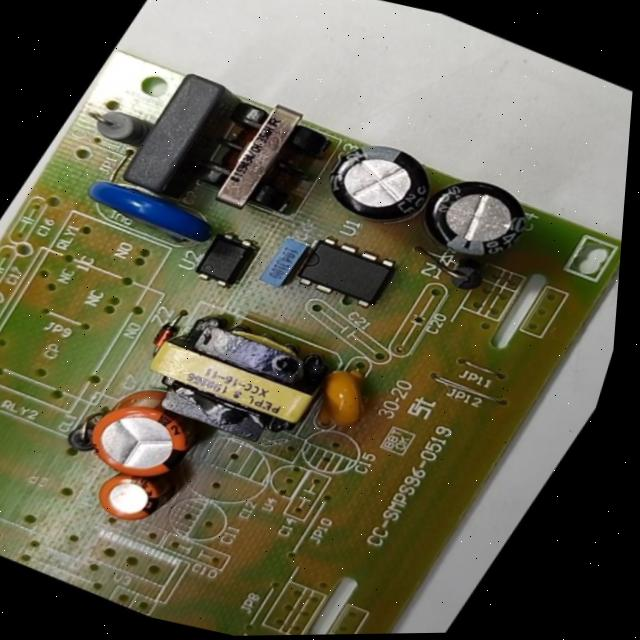Cap1: (56, 364, 229, 501)
Cap2: (75, 449, 194, 542)
Cap3: (299, 123, 458, 246)
Cap4: (390, 155, 556, 283)
MOSFET: (276, 222, 416, 323)
Mov: (66, 159, 246, 264)
Resistor: (69, 92, 168, 159)
Transformer: (108, 286, 366, 474), (169, 79, 356, 241)
